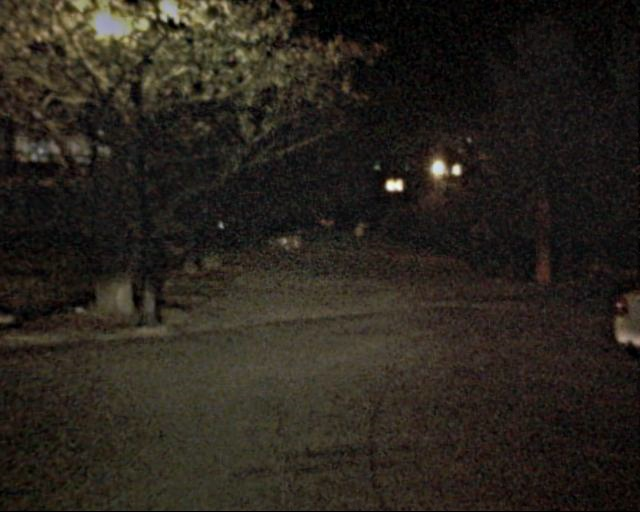person: (349, 219, 367, 262)
